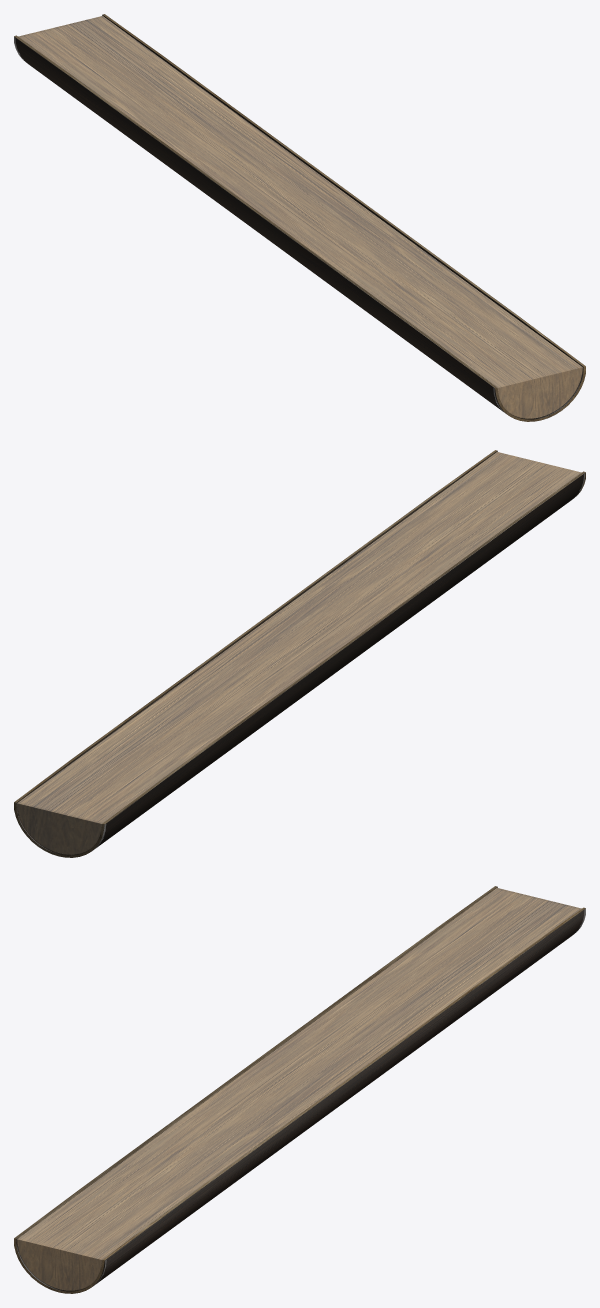
Rendered from finished_woodenlog.fbx.
The picture shows the model from 3 angles, top to bottom: view 1: azimuth 30°, elevation 25°; view 2: azimuth 150°, elevation 25°; view 3: azimuth 330°, elevation 25°; orthographic projection.
Parts seen in each view (by area): view 1: Logofwood:pCylinder1_pCylinder1; view 2: Logofwood:pCylinder1_pCylinder1; view 3: Logofwood:pCylinder1_pCylinder1.
Part boxes in pixels (left/top/right/bottom): Logofwood:pCylinder1_pCylinder1: left=14, top=14, right=585, bottom=421; Logofwood:pCylinder1_pCylinder1: left=14, top=450, right=585, bottom=857; Logofwood:pCylinder1_pCylinder1: left=14, top=886, right=585, bottom=1293.
Size of the model in its own units: 12.8 by 5.9 by 118.
Materials: 1 (1 with a texture image).
